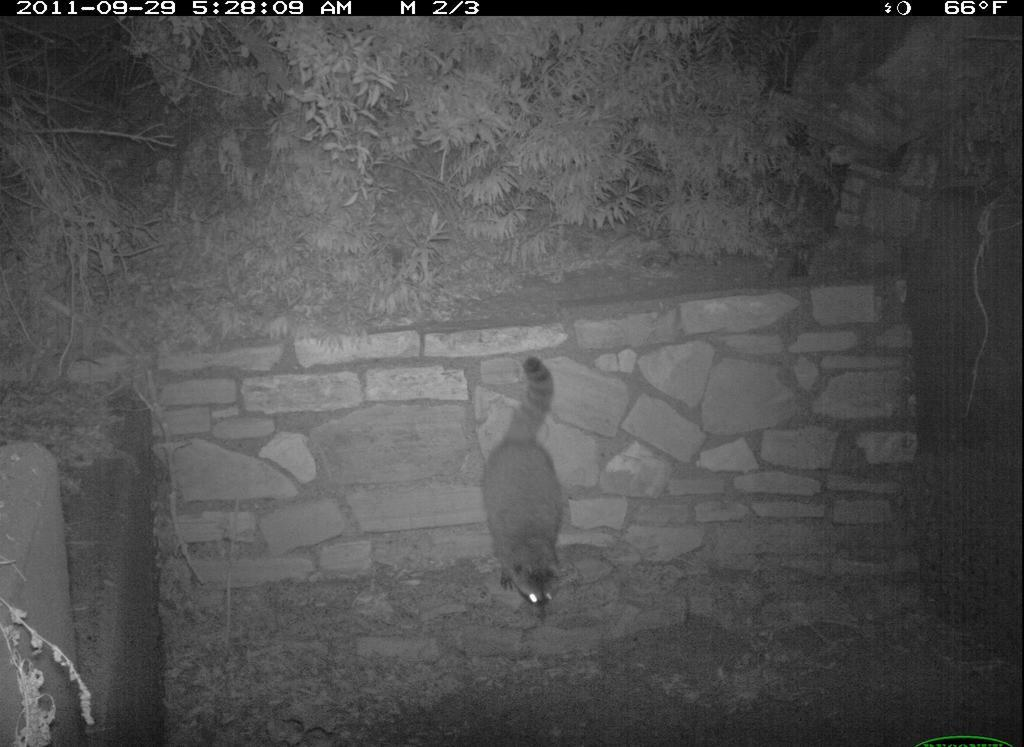raccoon: (470, 346, 580, 625)
